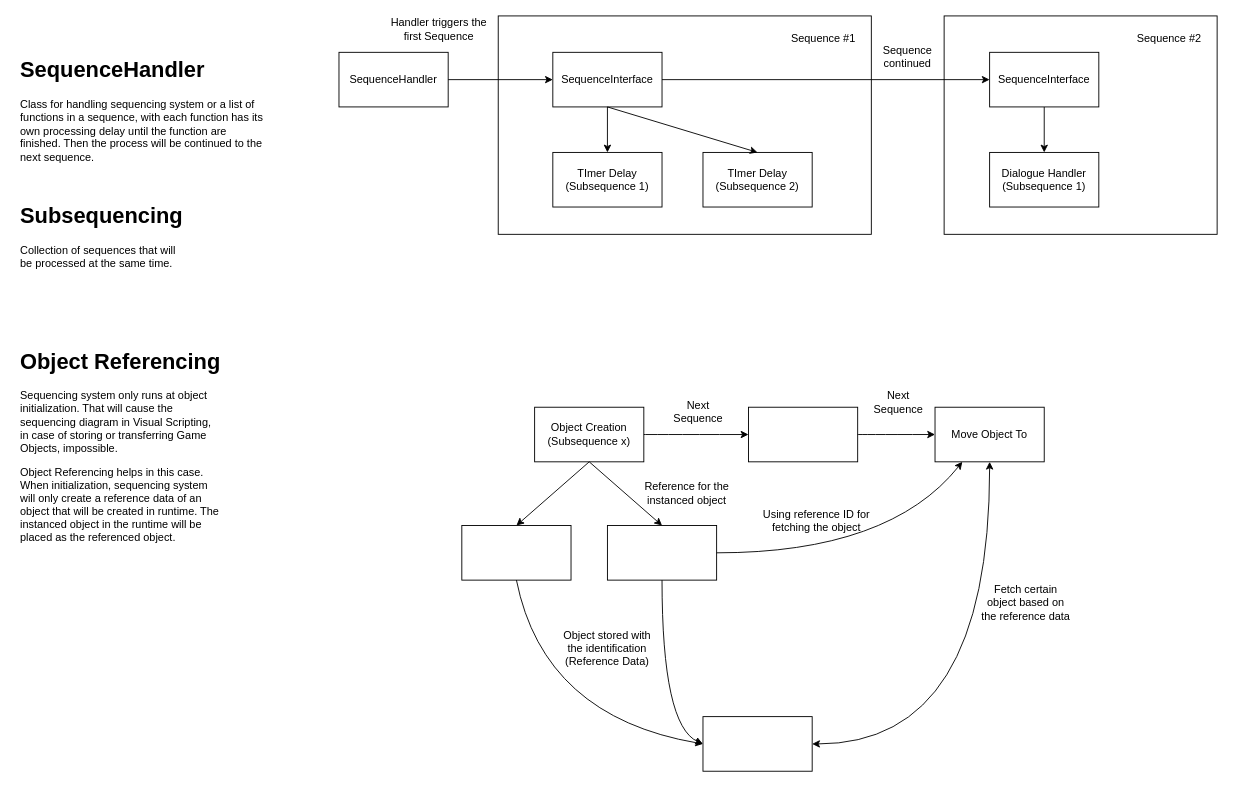
This 1233x787 diagram has some shape labels left out. The shapes that lost their labels are listed below. From the top down, each one's centre as x and y in pixels, then its label:
At (803,434): "Group of Subsequences".
At (516,552): "Created Object".
At (662,552): "Reference Data".
At (757,743): "ObjectReference class".
